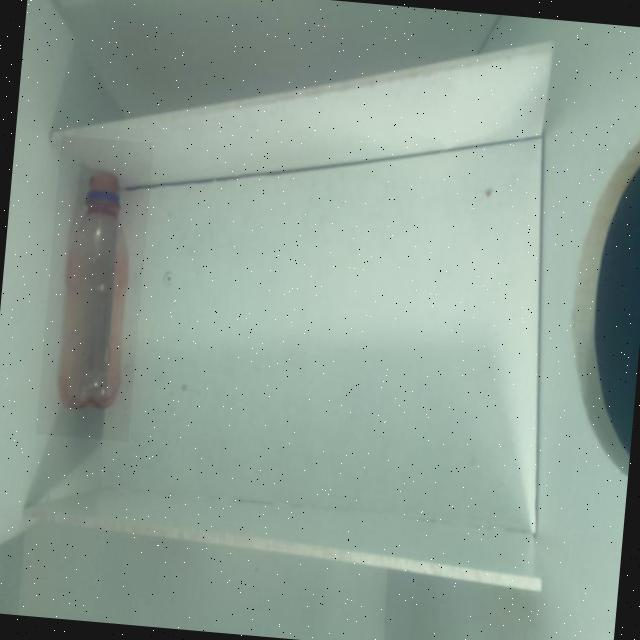bottle: (35, 134, 154, 442)
cap: (88, 172, 120, 194)
